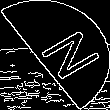N_SW: (17, 24, 93, 86)
